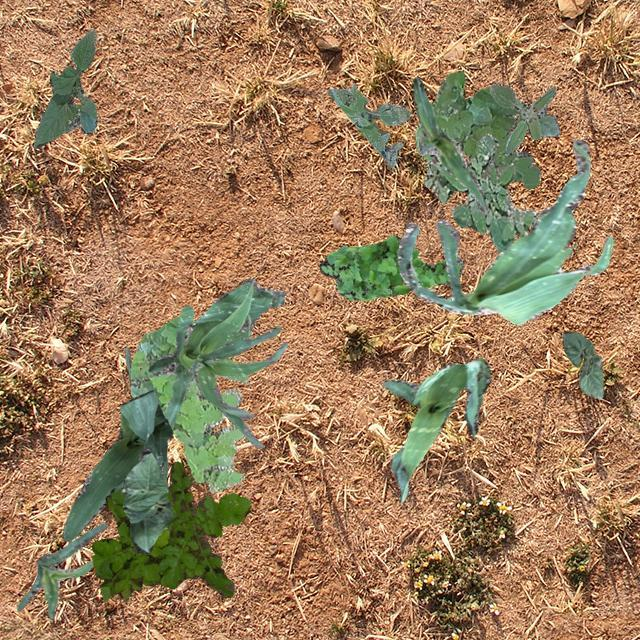crop: (397, 138, 612, 324), (148, 276, 284, 428), (62, 390, 172, 540), (382, 358, 489, 500), (188, 326, 286, 448), (412, 75, 488, 214), (17, 522, 105, 618), (32, 28, 96, 146), (120, 448, 172, 554), (124, 347, 166, 478), (562, 330, 602, 398)
weed: (90, 462, 250, 600), (130, 316, 248, 492), (414, 70, 540, 188), (418, 130, 536, 252), (318, 233, 462, 300), (326, 82, 409, 166), (488, 81, 558, 156)
